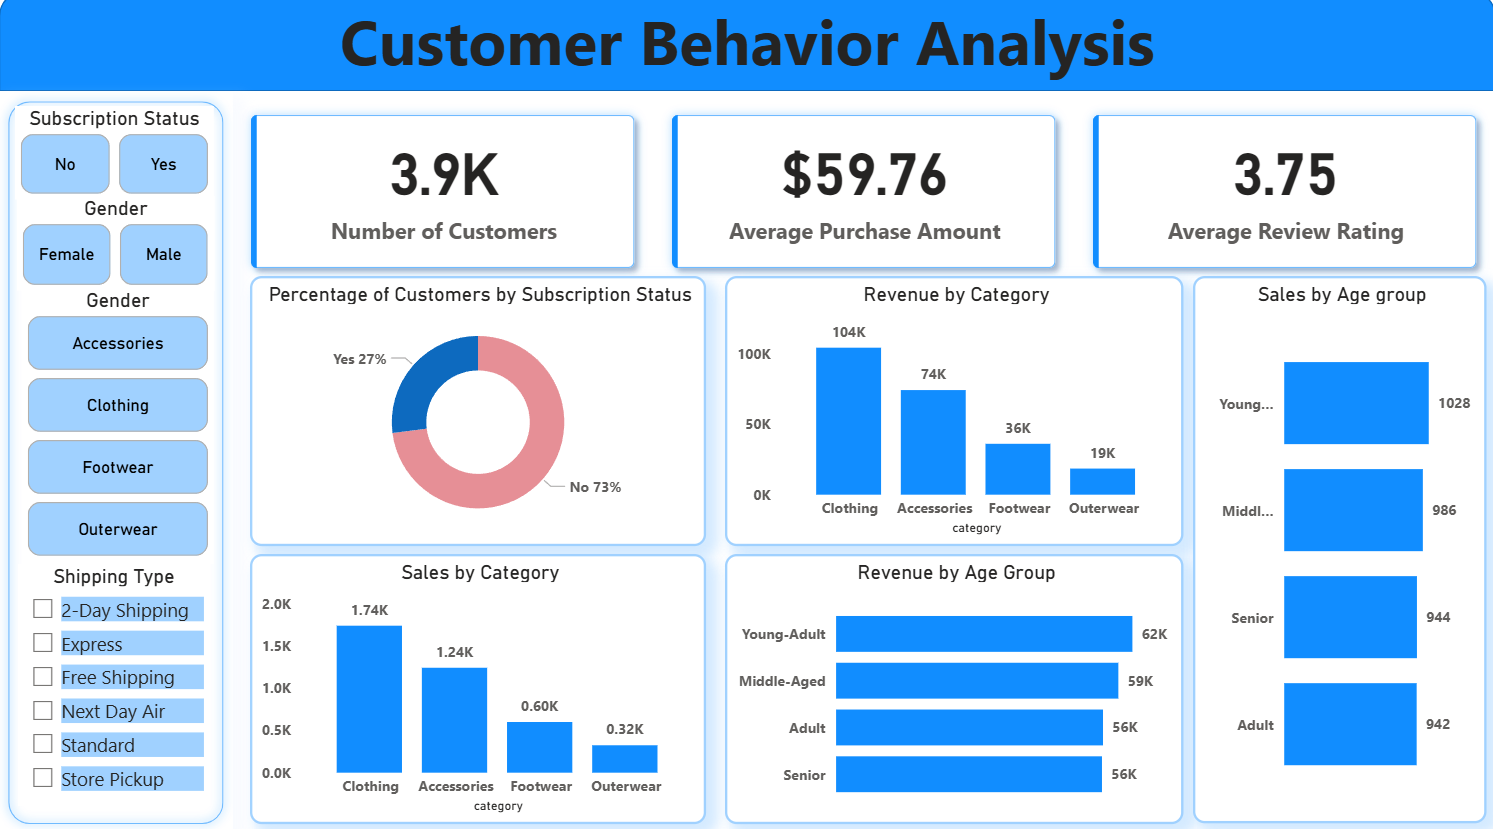

This screenshot's page, from the dashboard's own definition file:
{"tool":"powerbi","page":{"name":"Page 1","canvas":[1280,720],"ordinal":0},"visuals":[{"type":"cardVisual","fields":{"Data":["customers_behaivour customer.Number of Customers","customers_behaivour customer.Average Purchase Amount","customers_behaivour customer.Average Review Rating"]},"box":[198,89,1082,165],"z":0},{"type":"shape","box":[0,0,1280,85.6],"z":1000},{"type":"textbox","box":[0,0,1280,85.6],"z":2000},{"type":"donutChart","title":"Percentage of Customers by Subscription Status","fields":{"Category":["customers_behaivour customer.subscription_status"],"Y":["CountNonNull(customers_behaivour customer.customer_id)"]},"box":[215,244,390,231],"z":3000},{"type":"clusteredColumnChart","title":"Revenue by Category","fields":{"Y":["Sum(customers_behaivour customer.purchase_amount)"],"Category":["customers_behaivour customer.category"]},"box":[621,244,392,231],"z":4000},{"type":"clusteredColumnChart","title":"Sales by Category","fields":{"Y":["CountNonNull(customers_behaivour customer.customer_id)"],"Category":["customers_behaivour customer.category"]},"box":[215,481,390,231],"z":5000},{"type":"shape","box":[0,86,200,634],"z":6000},{"type":"advancedSlicerVisual","title":"Subscription Status","fields":{"Values":["customers_behaivour customer.subscription_status"]},"box":[14,98,170,80],"z":7000},{"type":"advancedSlicerVisual","title":"Gender","fields":{"Values":["customers_behaivour customer.gender"]},"box":[15,175,169,81],"z":8000},{"type":"advancedSlicerVisual","title":"Gender","fields":{"Values":["customers_behaivour customer.category"]},"box":[20,254,164,236],"z":9000},{"type":"slicer","title":"Shipping Type","fields":{"Values":["customers_behaivour customer.shipping_type"]},"box":[16,490,164,207],"z":9001},{"type":"clusteredBarChart","title":"Revenue by Age Group","fields":{"Y":["Sum(customers_behaivour customer.purchase_amount)"],"Category":["customers_behaivour customer.age_group"]},"box":[621,481,392,231],"z":9002},{"type":"clusteredBarChart","title":"Sales by Age group","fields":{"Category":["customers_behaivour customer.age_group"],"Y":["CountNonNull(customers_behaivour customer.customer_id)"]},"box":[1021,244,251,468],"z":9003}]}

Visuals, with their boxes in screenshot pixels (x1, y1, x2, y2), scaled from the page's 1280x720 canvas onto the 1493x829 screenshot:
cardVisual - customers_behaivour customer.Number of Customers x customers_behaivour customer.Average Purchase Amount: <region>231, 102, 1492, 292</region>
shape: <region>0, 0, 1492, 99</region>
textbox: <region>0, 0, 1492, 99</region>
"Percentage of Customers by Subscription Status" donutChart: <region>251, 281, 706, 547</region>
"Revenue by Category" clusteredColumnChart: <region>724, 281, 1182, 547</region>
"Sales by Category" clusteredColumnChart: <region>251, 554, 706, 820</region>
shape: <region>0, 99, 233, 828</region>
"Subscription Status" advancedSlicerVisual: <region>16, 113, 215, 205</region>
"Gender" advancedSlicerVisual: <region>17, 201, 215, 295</region>
"Gender" advancedSlicerVisual: <region>23, 292, 215, 564</region>
"Shipping Type" slicer: <region>19, 564, 210, 803</region>
"Revenue by Age Group" clusteredBarChart: <region>724, 554, 1182, 820</region>
"Sales by Age group" clusteredBarChart: <region>1191, 281, 1484, 820</region>
